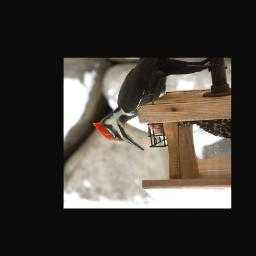Woodpecker: (85, 58, 216, 151)
